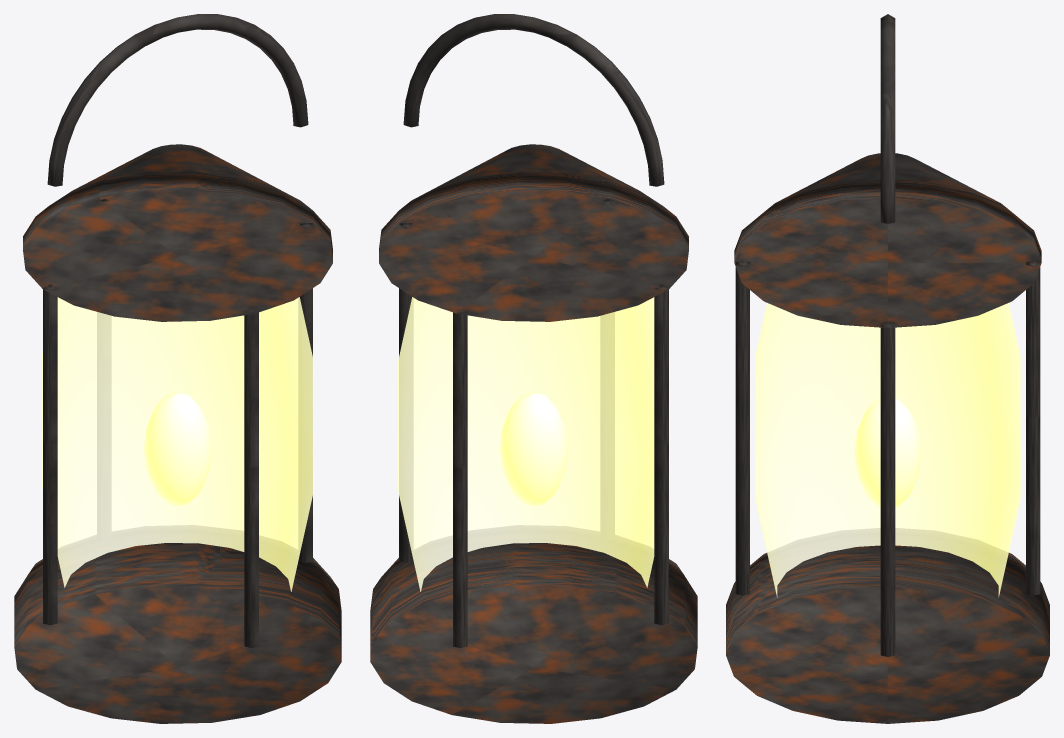
File: ランタン_lantern.glb
The picture shows the model from 3 angles, left to right: view 1: azimuth 30°, elevation 25°; view 2: azimuth 150°, elevation 25°; view 3: azimuth 270°, elevation 25°; orthographic projection.
Parts seen in each view (by area): view 1: lantern; view 2: lantern; view 3: lantern.
Boxes of the visible parts, x1,y1,x2,y2 form: lantern: [14, 14, 341, 723]; lantern: [370, 14, 697, 723]; lantern: [726, 14, 1049, 723].
Size of the model in its own units: 0.116 by 0.253 by 0.116.
Materials: 4 (2 with a texture image).
